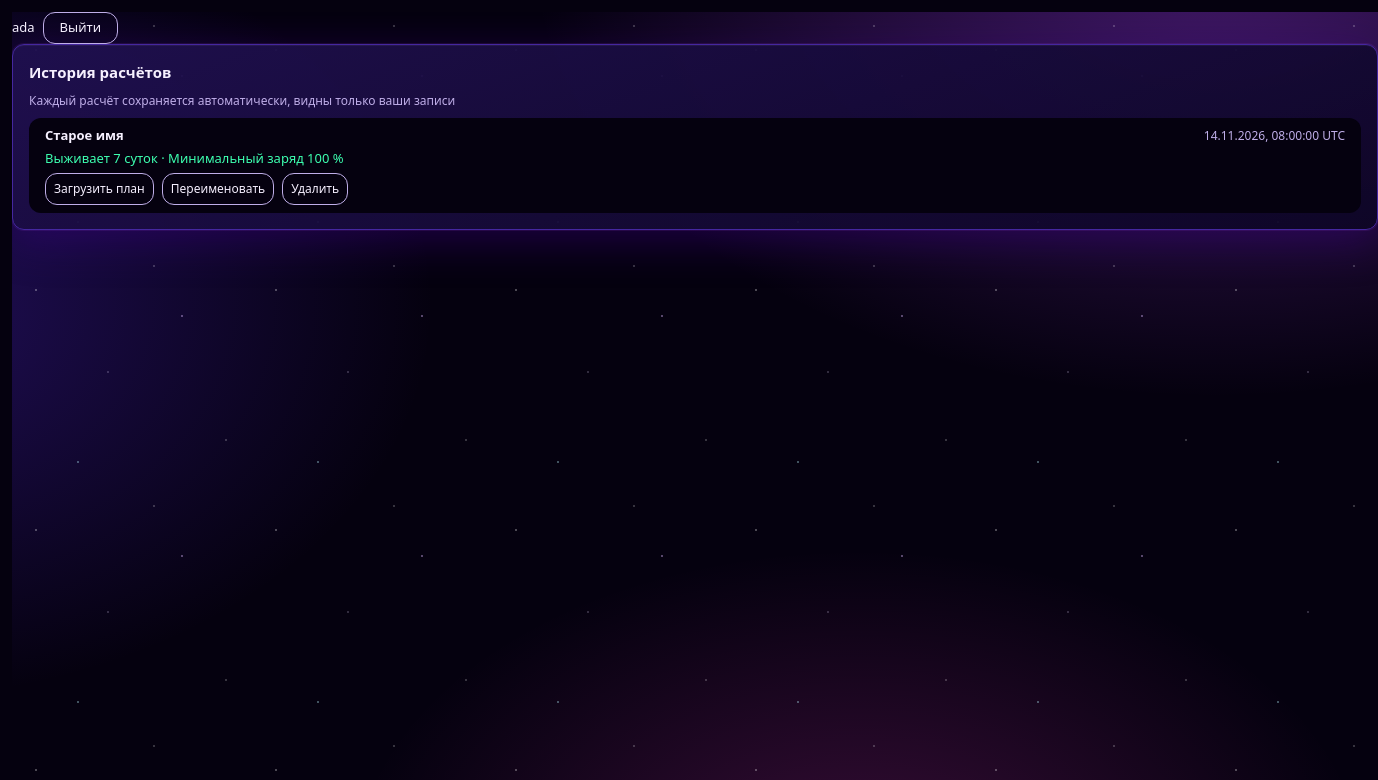
Test: history › renames a run, keeps the frozen data and cancels with Escape
Expected: the text "Старое имя" is shown, [45, 126, 124, 145]
Click the button with aria-label "Переименовать «Старое имя»" at (218, 188), box [162, 172, 274, 204]
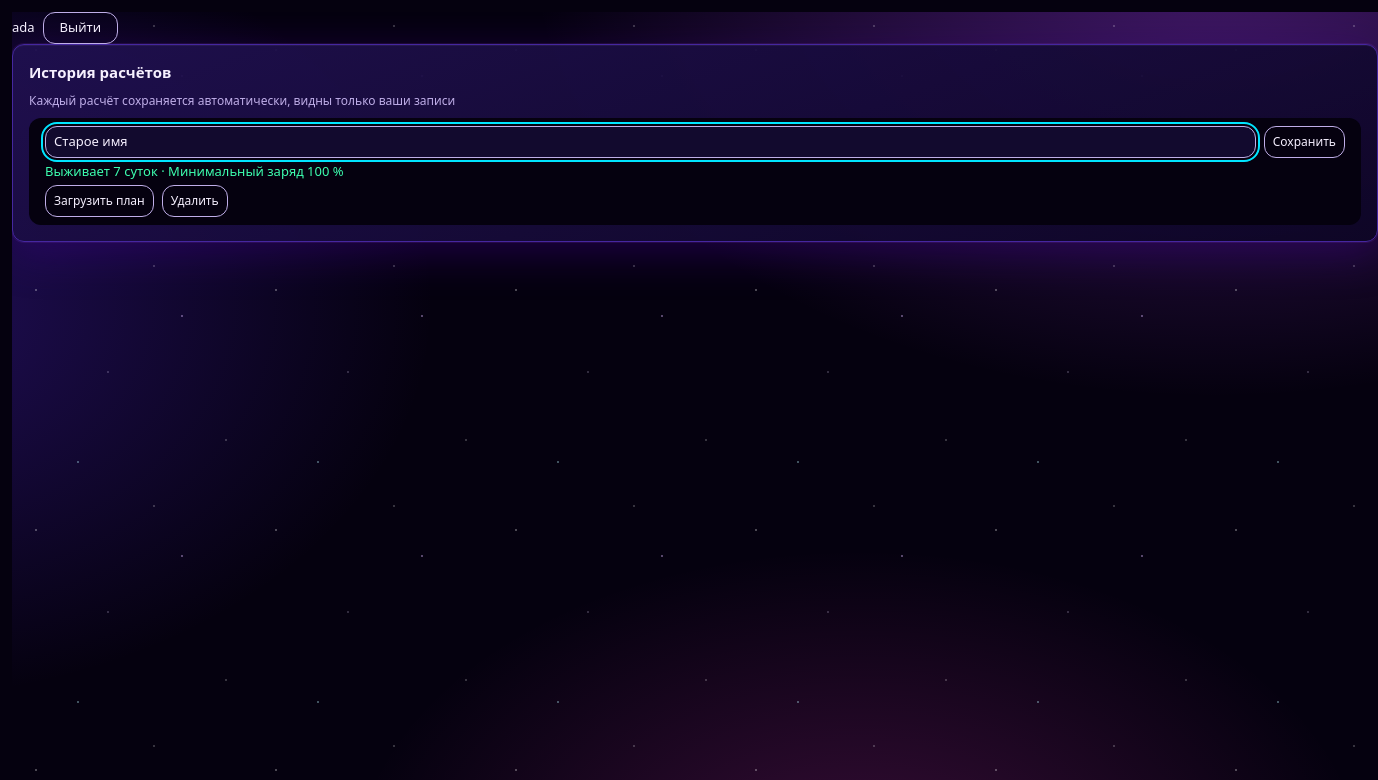
Replace the text in the field named "Новое название" with "Черновик" at (650, 142), box [45, 126, 1256, 158]
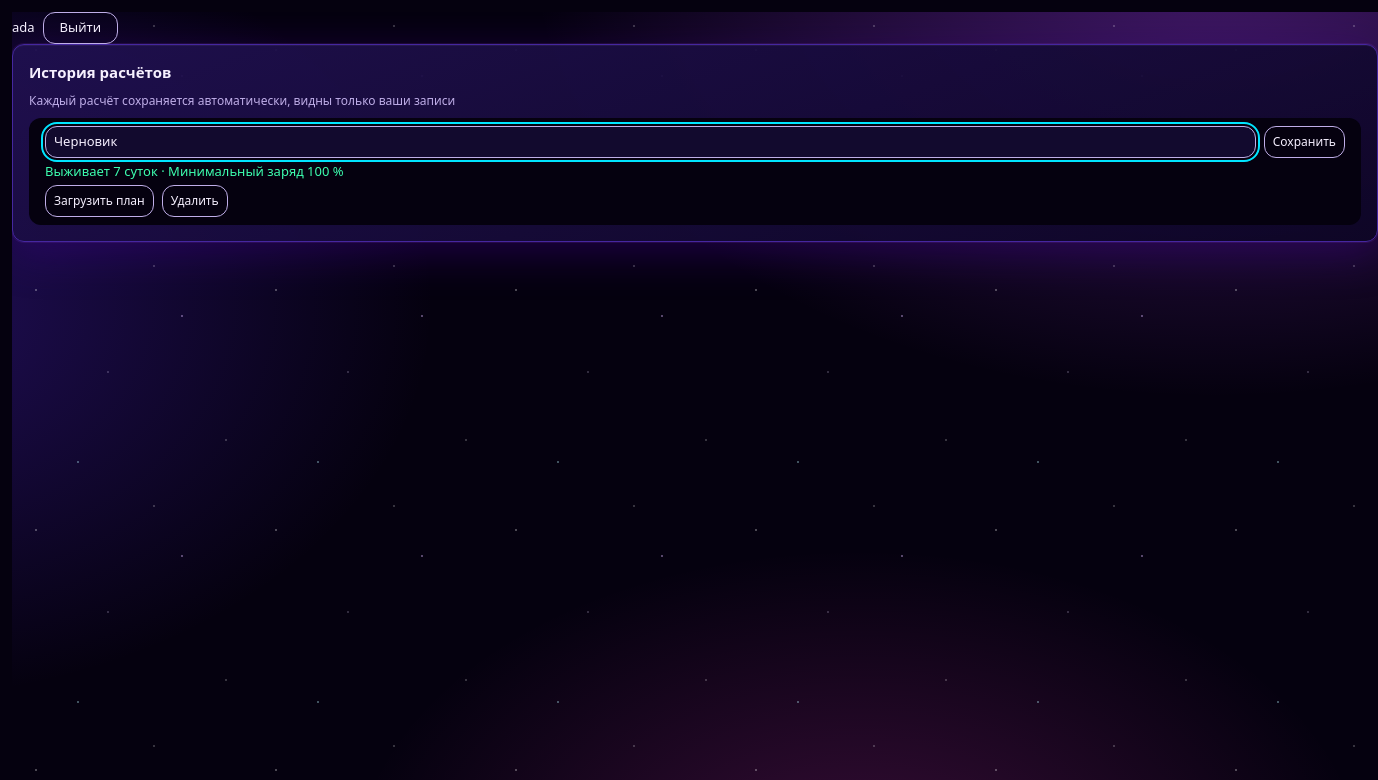
Press Escape in the field named "Новое название", box [45, 126, 1256, 158]
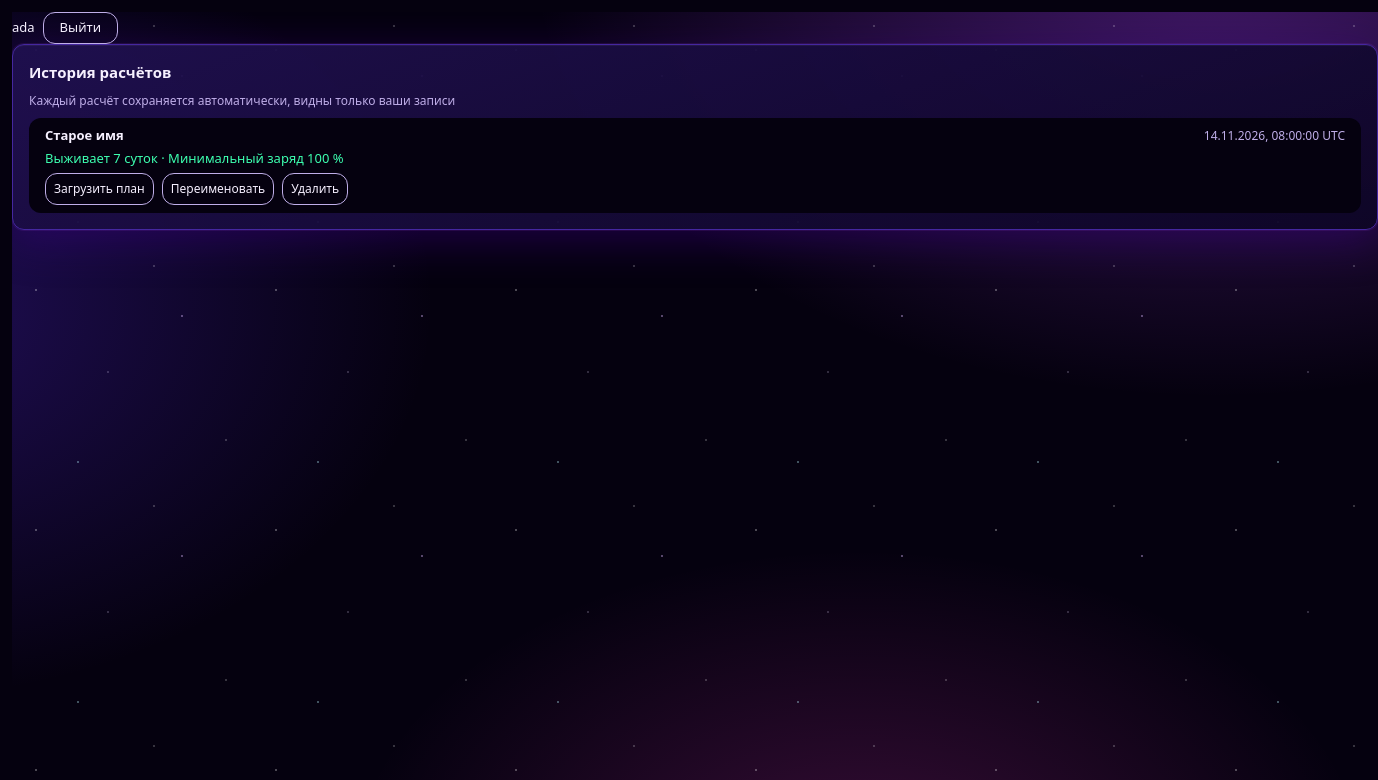
Result: the text "Старое имя" is shown at [45, 126, 124, 145]
Click the button with aria-label "Переименовать «Старое имя»" at (218, 188), box [162, 172, 274, 204]
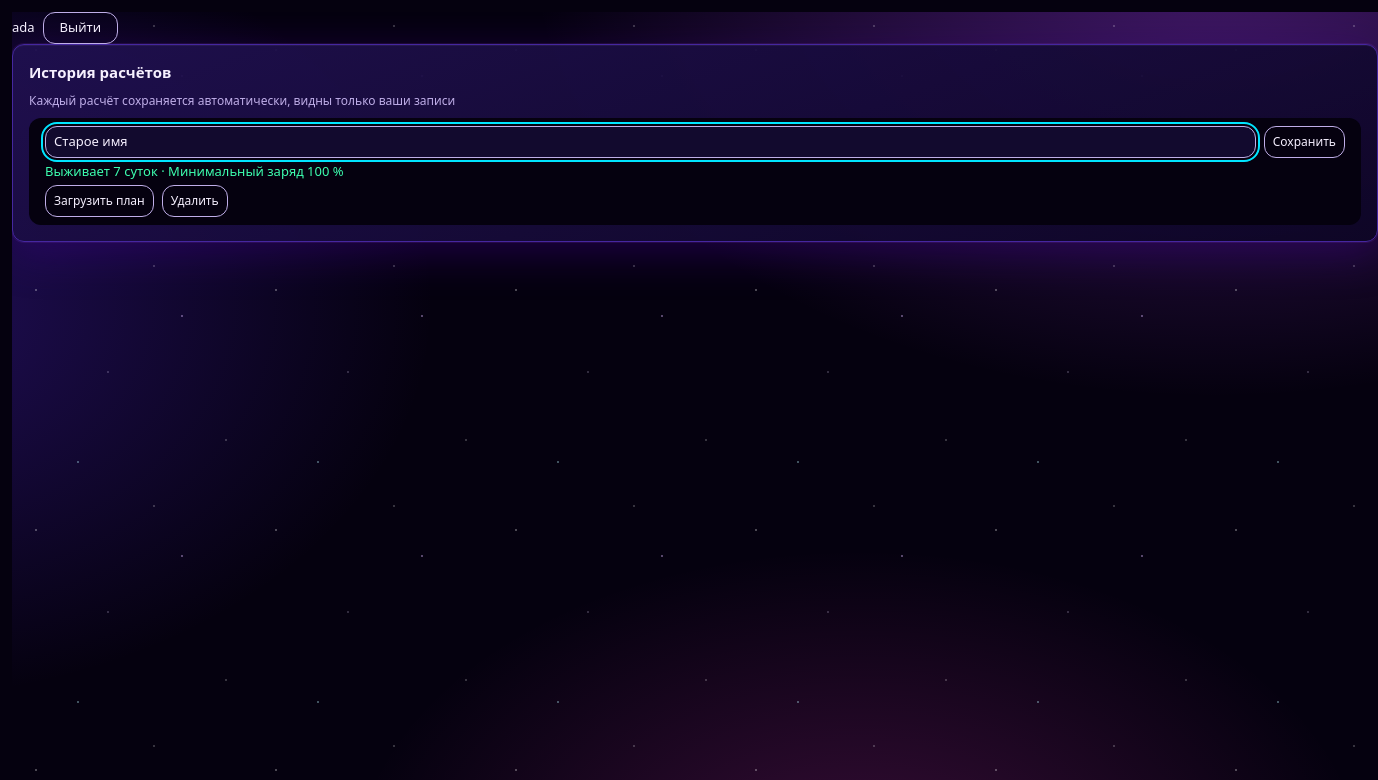
Replace the text in the field named "Новое название" with "  Южный полюс  " at (650, 142), box [45, 126, 1256, 158]
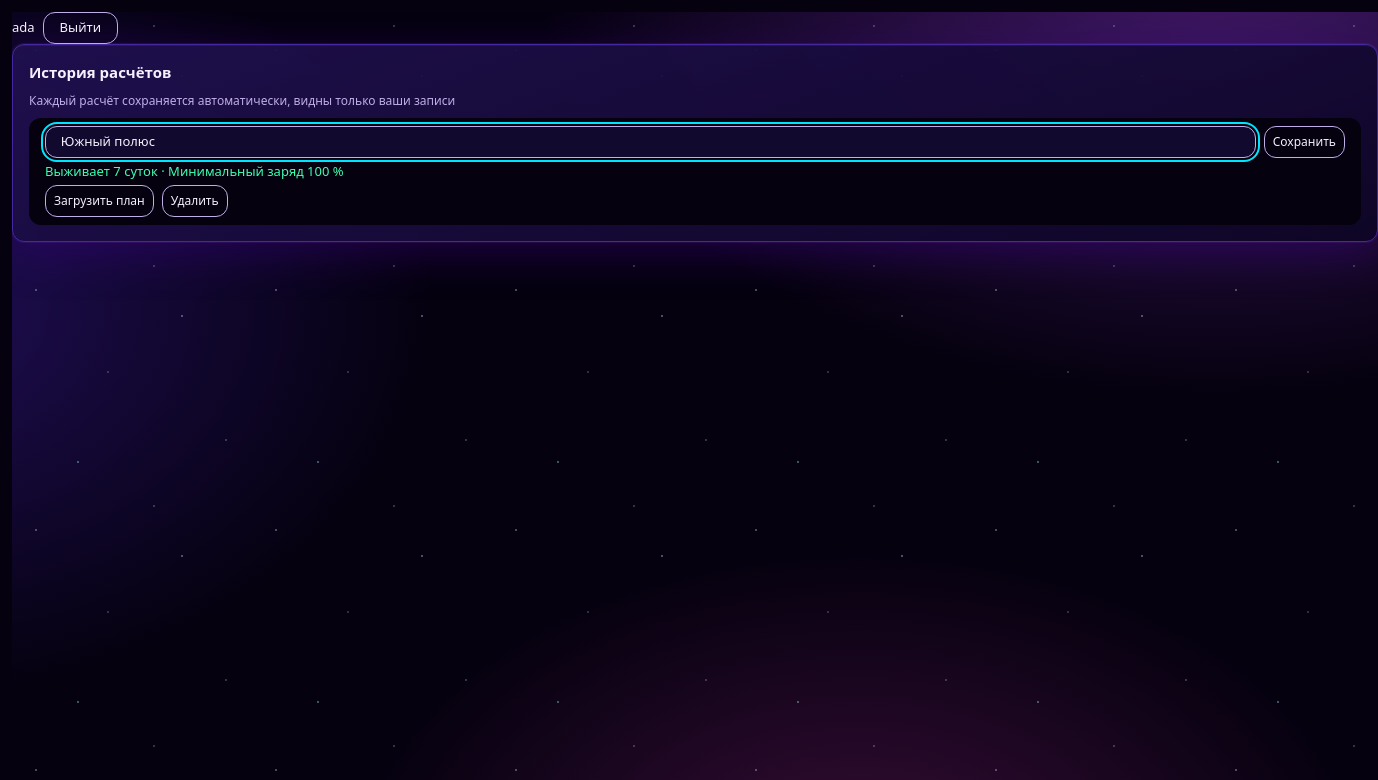
Click the button "Сохранить" at (1304, 142), box [1264, 126, 1345, 158]
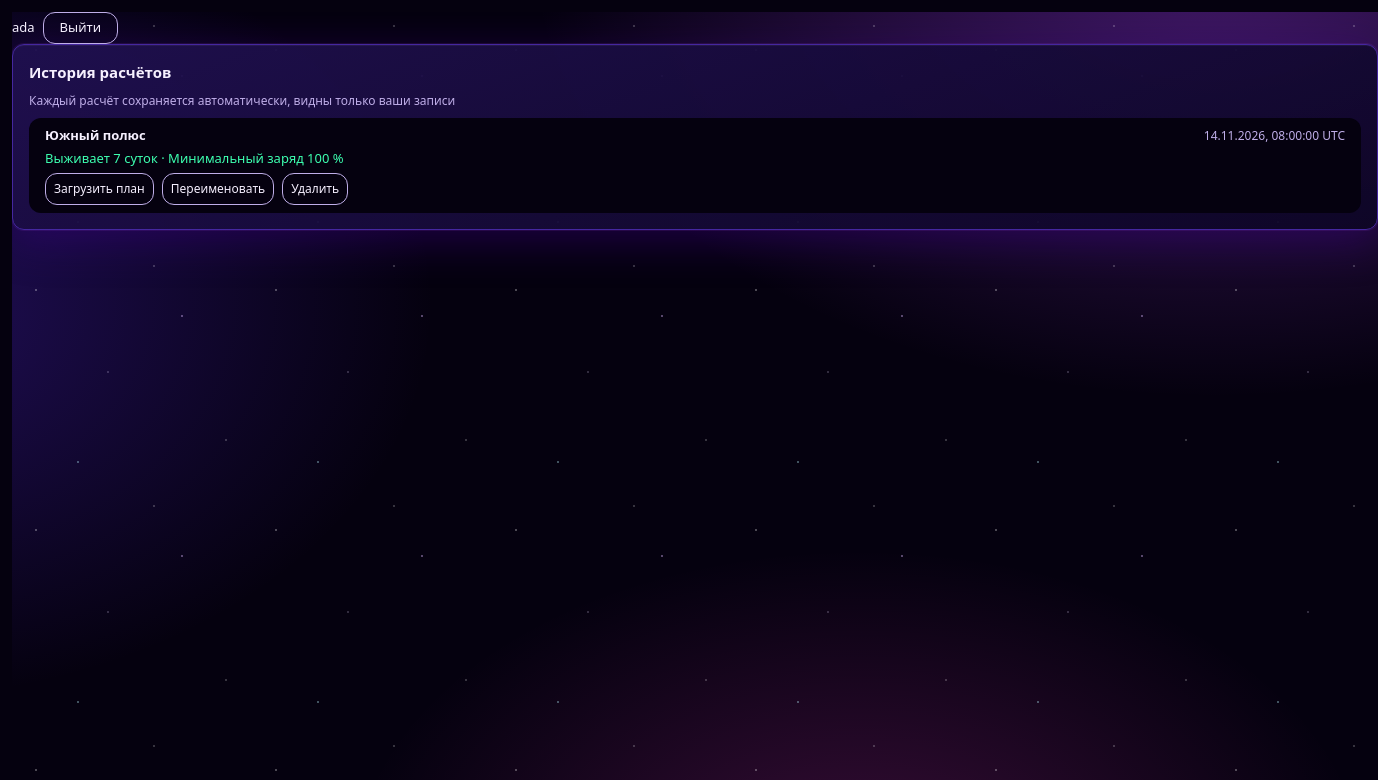
Result: the text "Южный полюс" is shown at [45, 126, 146, 145]
